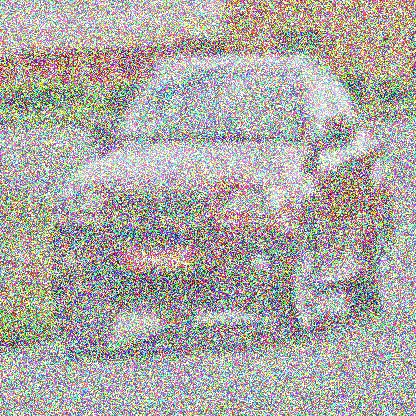Vehicle: (52, 47, 394, 359)
